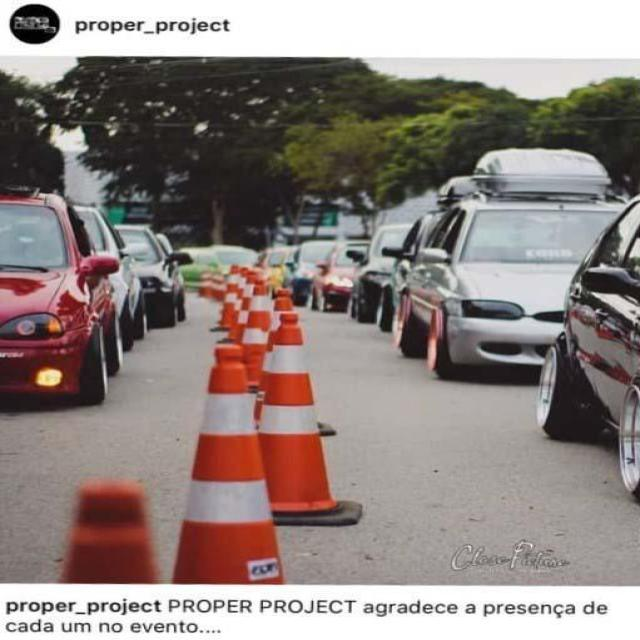cone: (177, 343, 299, 577), (242, 317, 352, 517)
